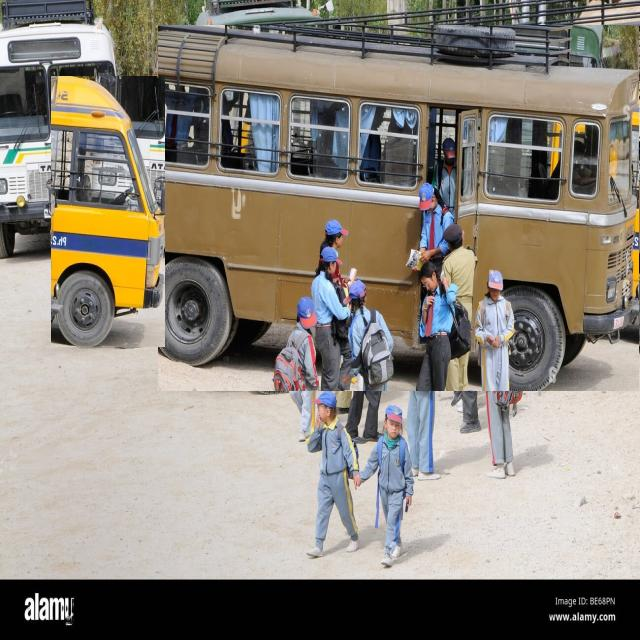bus: (159, 25, 639, 391), (51, 77, 165, 347)
truck: (0, 0, 119, 257)
